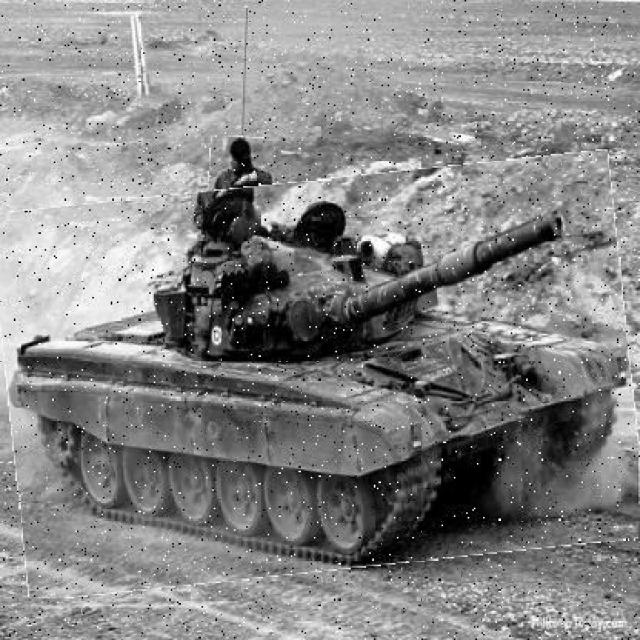Person: (209, 138, 276, 229)
Tank: (1, 165, 639, 585)
